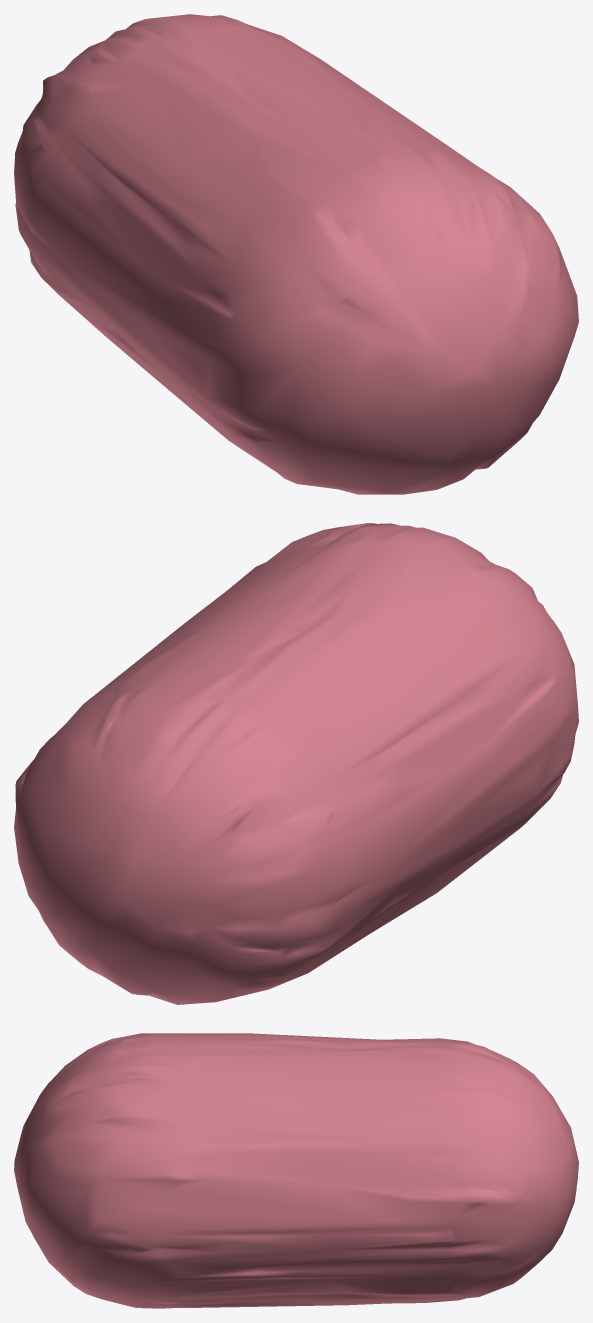
3 renders of one model, top to bottom at view 1: azimuth 30°, elevation 25°; view 2: azimuth 150°, elevation 25°; view 3: azimuth 270°, elevation 25°, orthographic. The views are drawn at different scales.
Parts seen in each view (by area): view 1: 腭垂; view 2: 腭垂; view 3: 腭垂.
Part boxes in pixels (x1,y1,x2,y2): 腭垂: (14,14,578,494); 腭垂: (14,523,578,1004); 腭垂: (14,1033,578,1308).
Size of the model in its own units: 0.00736 by 0.00665 by 0.0137.
